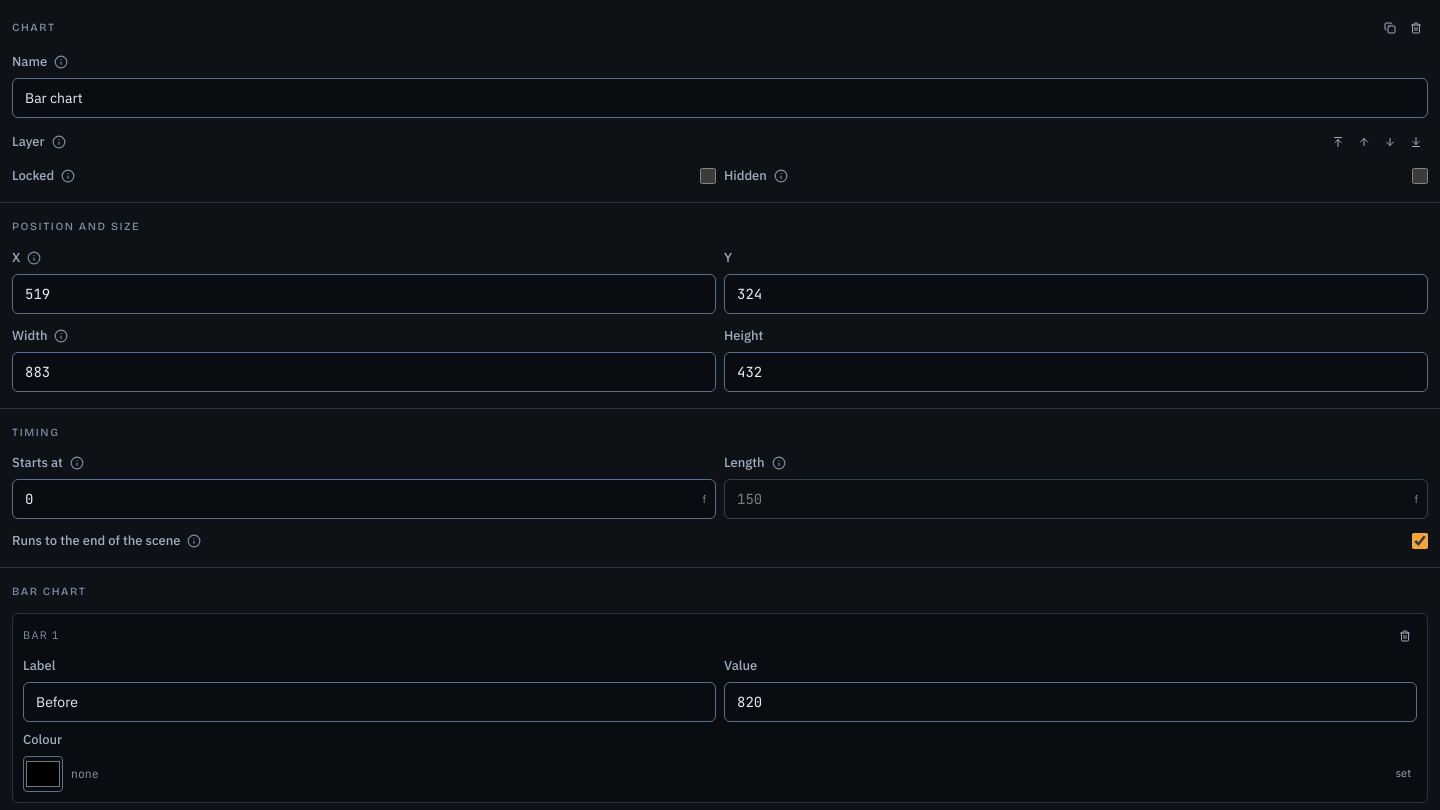
Test: the bar chart editor › will not let the last bar go, because an empty chart means nothing
Click the button named "Remove bar 1" at [1405, 636], box [1393,624,1417,648]
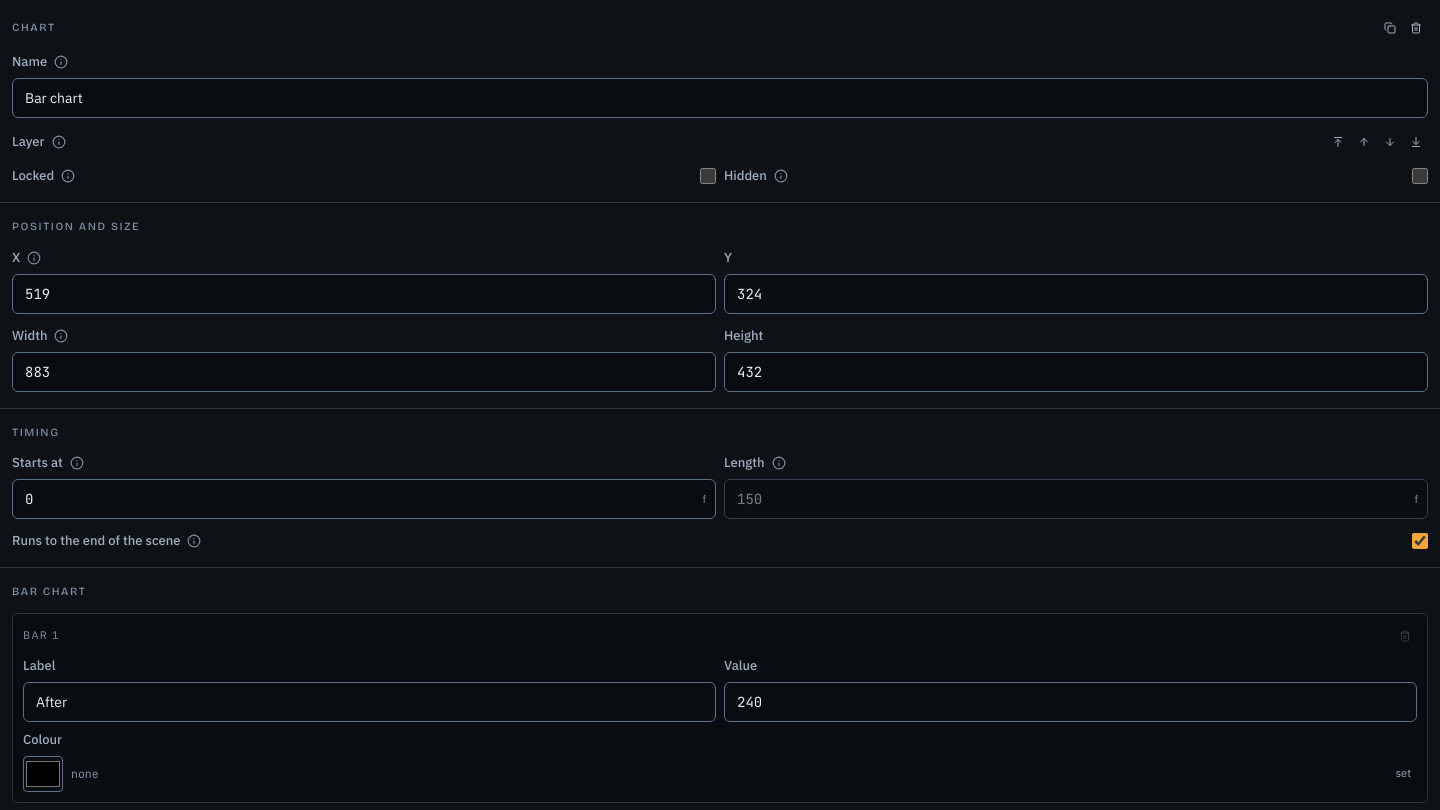
Result: the button named "Remove bar 1" is disabled at [1393,624,1417,648]
